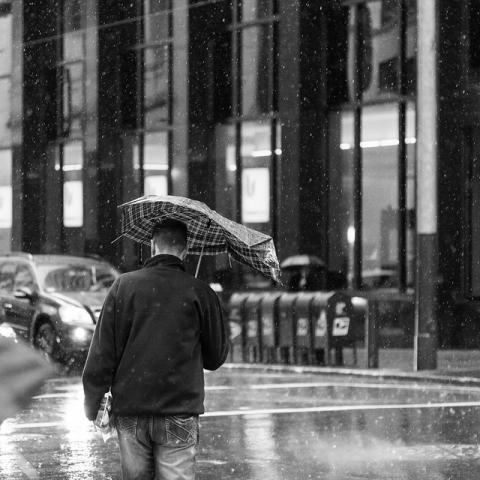car: (0, 253, 122, 371)
